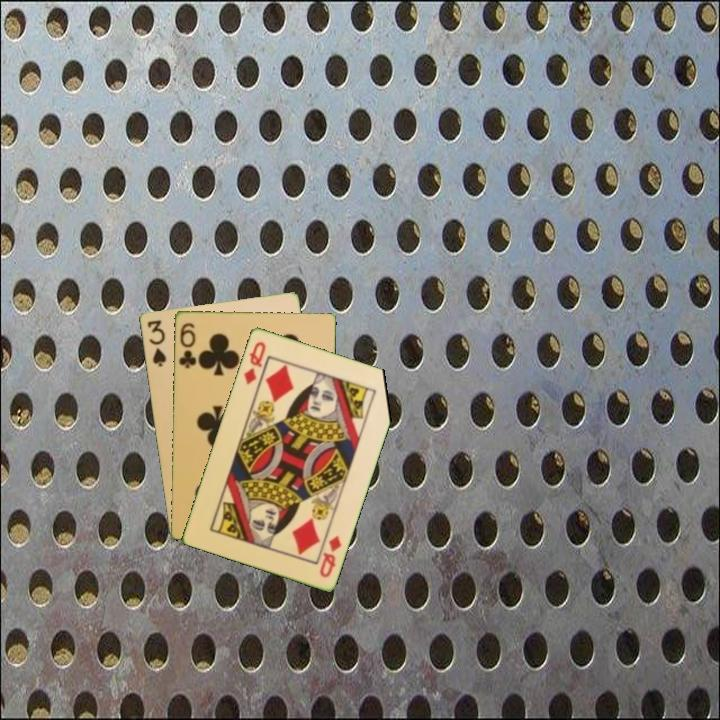3s: (143, 316, 169, 369)
6c: (175, 319, 199, 371)
Qd: (240, 337, 269, 387), (316, 531, 344, 581)
